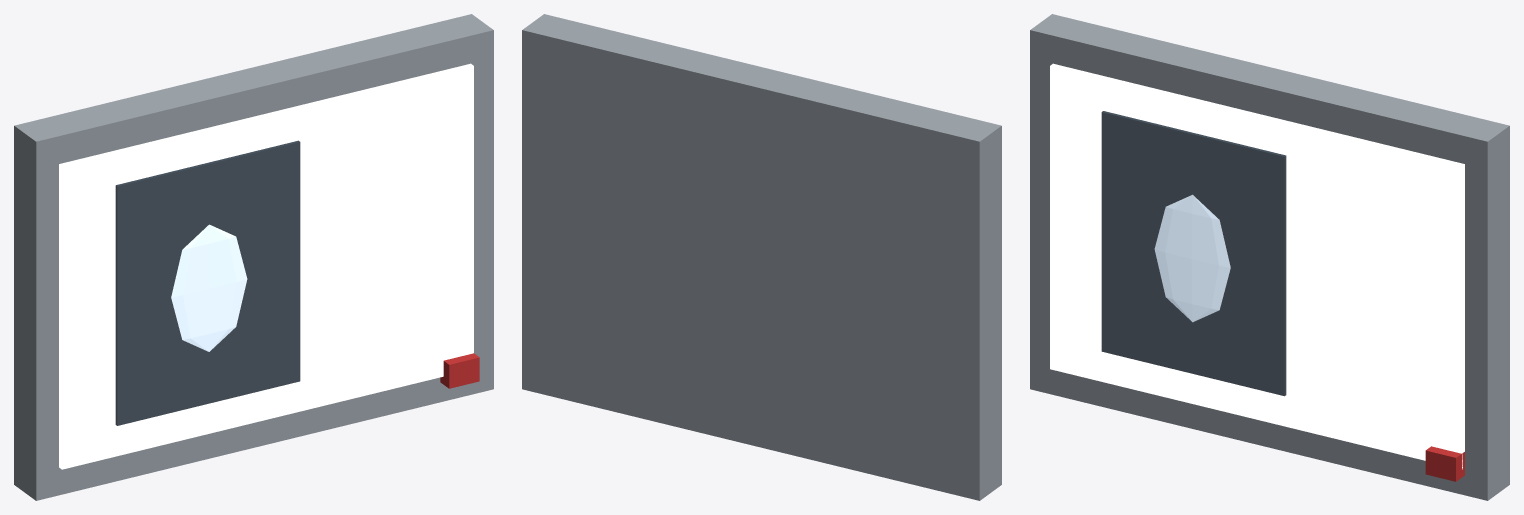
File: xray_lightbox.glb
3 renders of one model, left to right at view 1: azimuth 30°, elevation 25°; view 2: azimuth 150°, elevation 25°; view 3: azimuth 330°, elevation 25°, orthographic.
Parts seen in each view (by area): view 1: screen_light_panel, frame_box_grey, film_film_dark, film_film_bone, switch_switch_red; view 2: frame_box_grey; view 3: screen_light_panel, frame_box_grey, film_film_dark, film_film_bone, switch_switch_red.
Boxes of the visible parts, box(x1,y1,x2,y2) form: screen_light_panel: box(59, 63, 473, 469); frame_box_grey: box(14, 14, 493, 500); film_film_dark: box(115, 140, 300, 425); film_film_bone: box(171, 224, 247, 351); switch_switch_red: box(440, 353, 479, 388); frame_box_grey: box(522, 14, 1001, 500); screen_light_panel: box(1050, 63, 1464, 469); frame_box_grey: box(1030, 14, 1509, 500); film_film_dark: box(1101, 111, 1286, 396); film_film_bone: box(1154, 194, 1230, 322); switch_switch_red: box(1425, 446, 1464, 481).
Size of the model in its own units: 0.6 by 0.45 by 0.07.
